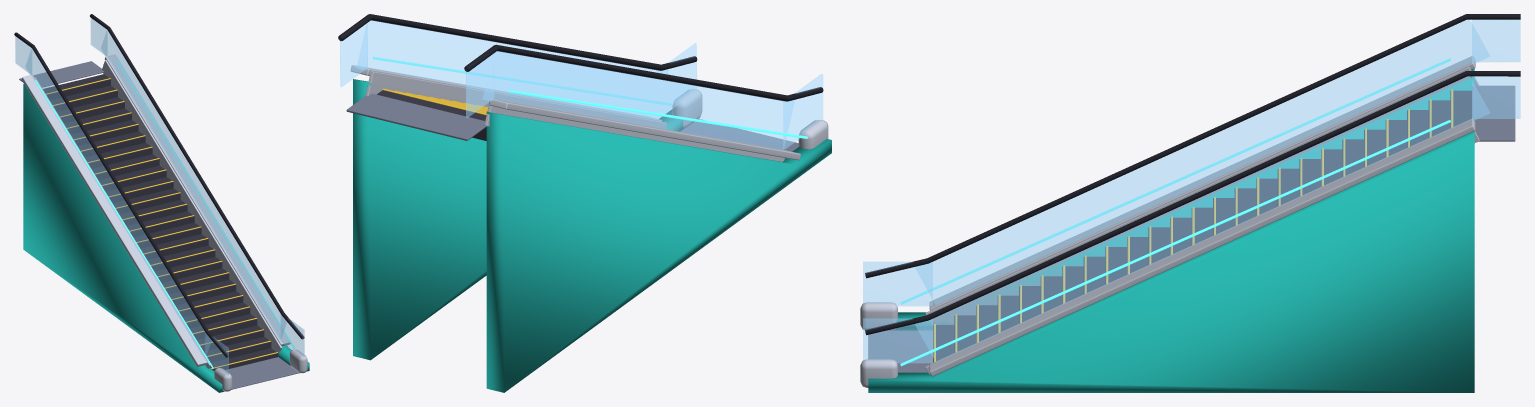
Rendered from mall_escalator.glb.
The picture shows the model from 3 angles, left to right: view 1: azimuth 30°, elevation 25°; view 2: azimuth 150°, elevation 25°; view 3: azimuth 270°, elevation 25°; orthographic projection. The views are drawn at different scales.
Parts seen in each view (by area): view 1: Escalator; view 2: Escalator; view 3: Escalator.
Boxes of the visible parts, <box> form: Escalator: <box>14,14,309,392</box>; Escalator: <box>338,14,831,392</box>; Escalator: <box>860,14,1520,392</box>.
Size of the model in its own units: 3.1 by 6.61 by 12.25.
